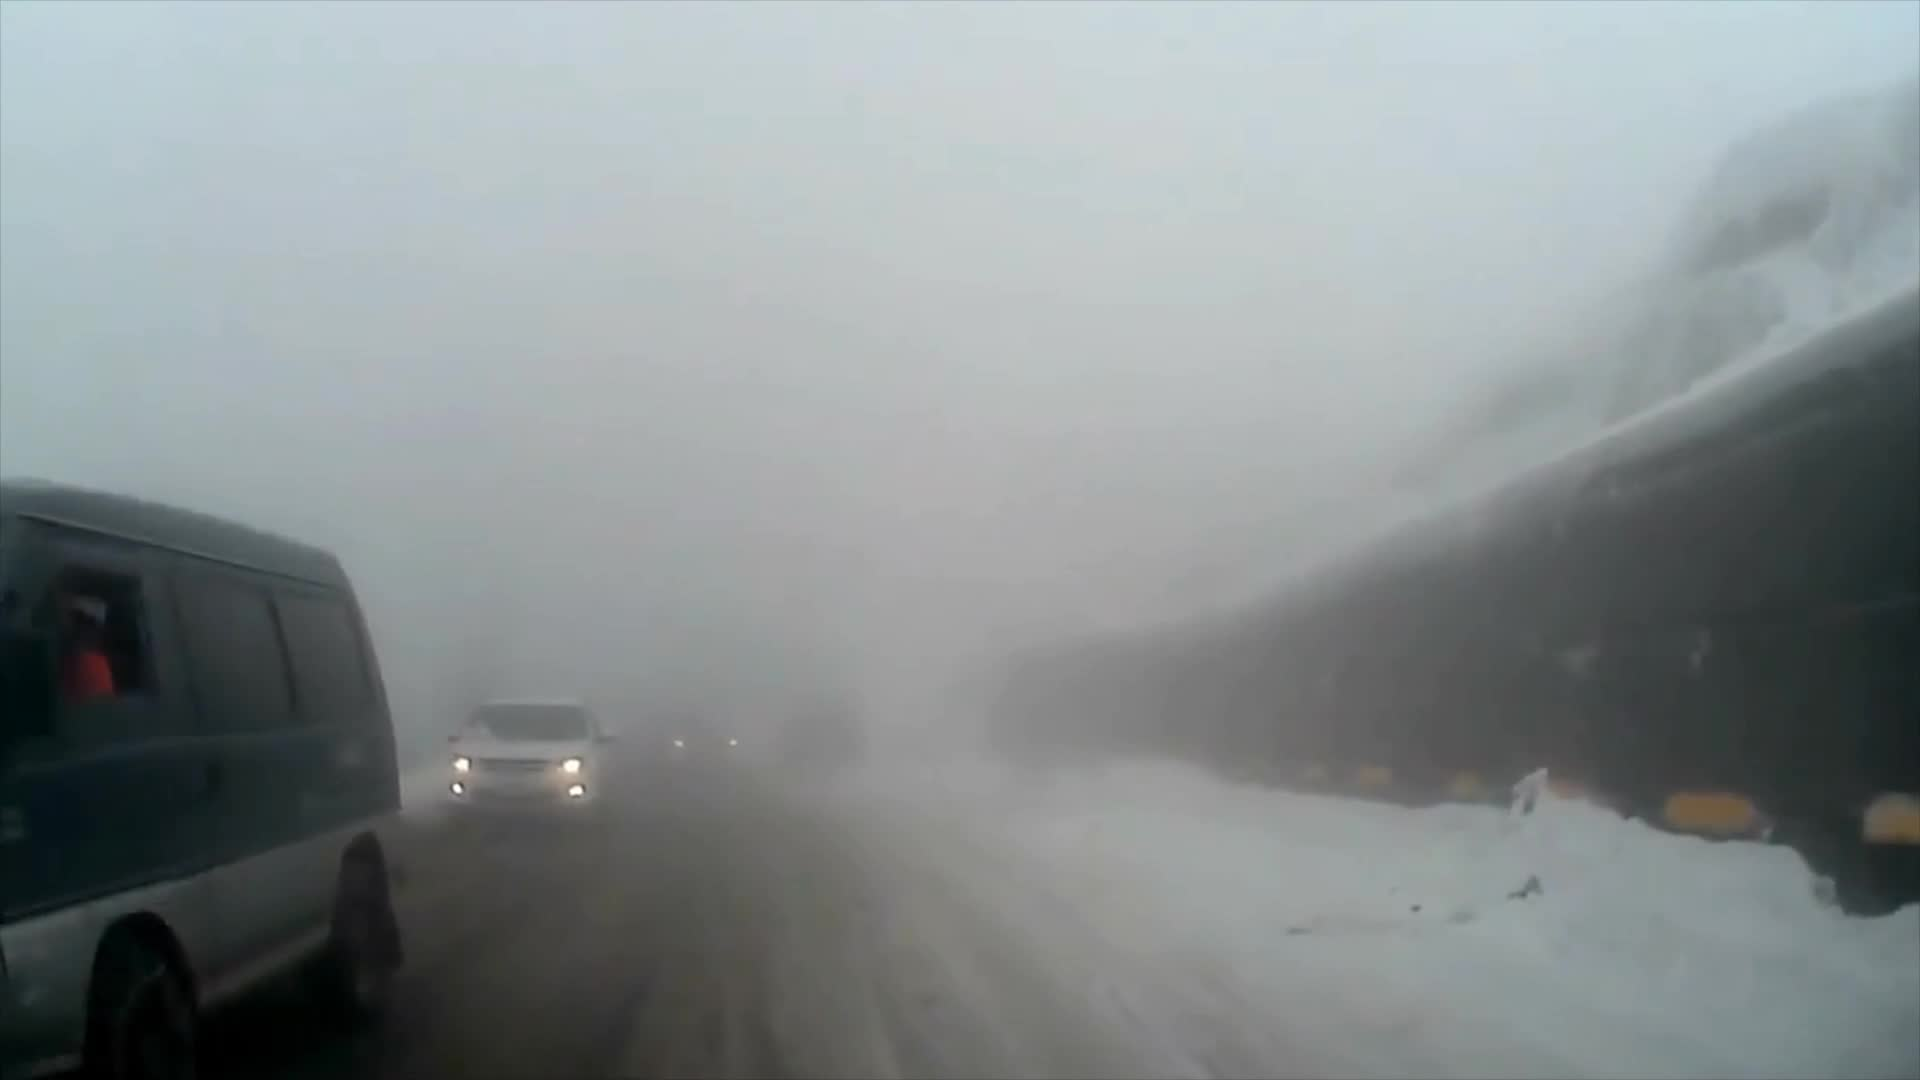vehicle: (0, 476, 411, 1080), (438, 696, 617, 835)
